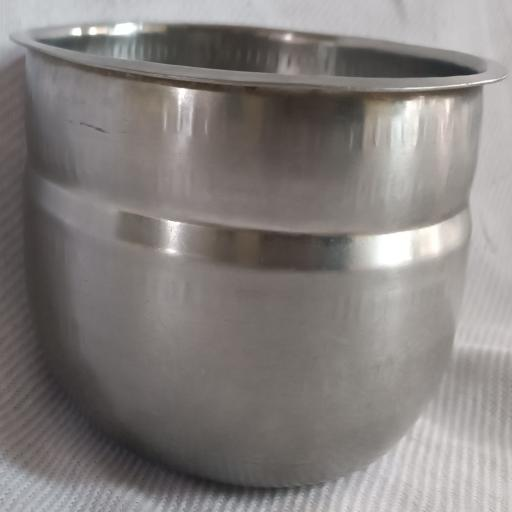vessel: (13, 22, 506, 487)
